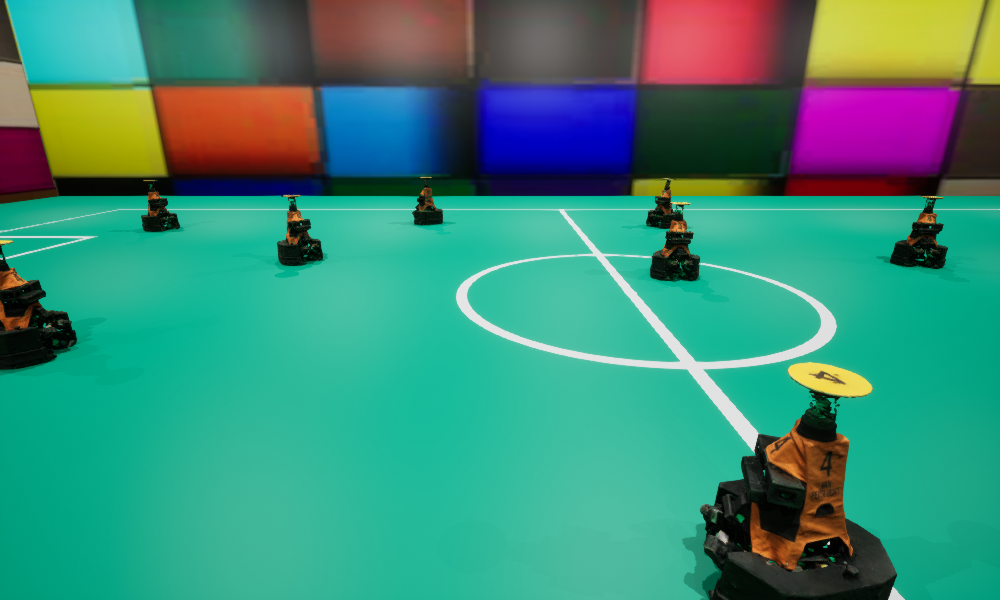o: (700, 362, 896, 599), (0, 240, 76, 369), (890, 196, 947, 267), (650, 202, 699, 280), (277, 195, 322, 265), (141, 180, 179, 231), (646, 178, 676, 228), (412, 177, 442, 224)
